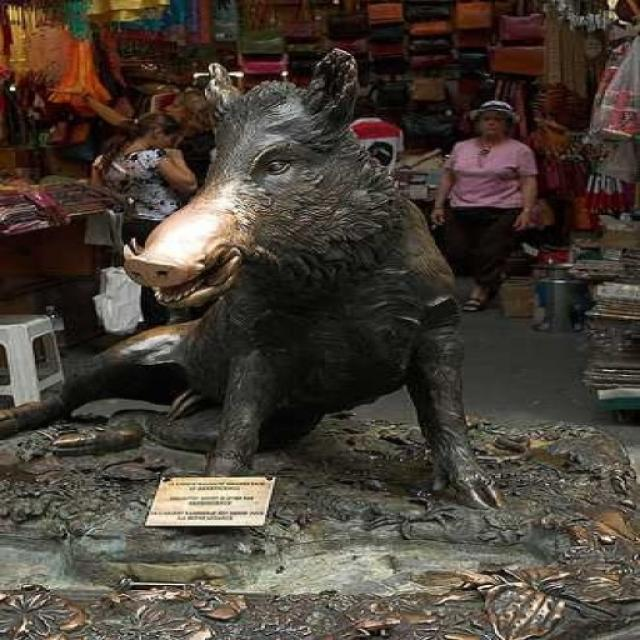pig: (88, 9, 503, 542)
